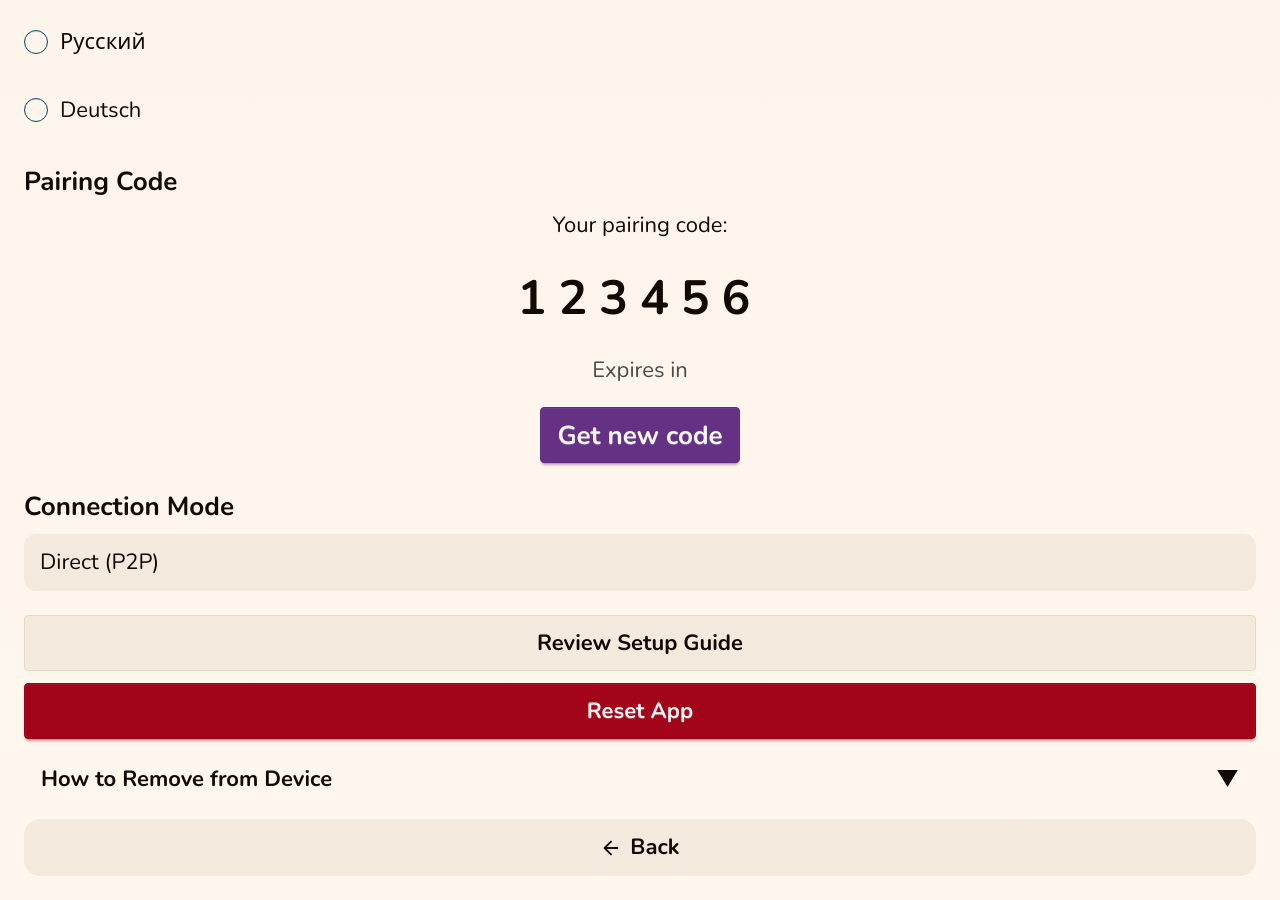
Test case: SettingsScreen › opens confirm dialog when Reset App clicked
(page scrolled)
Step 1. Click the button "Reset App" → click(640, 711), box [24, 683, 1256, 739]
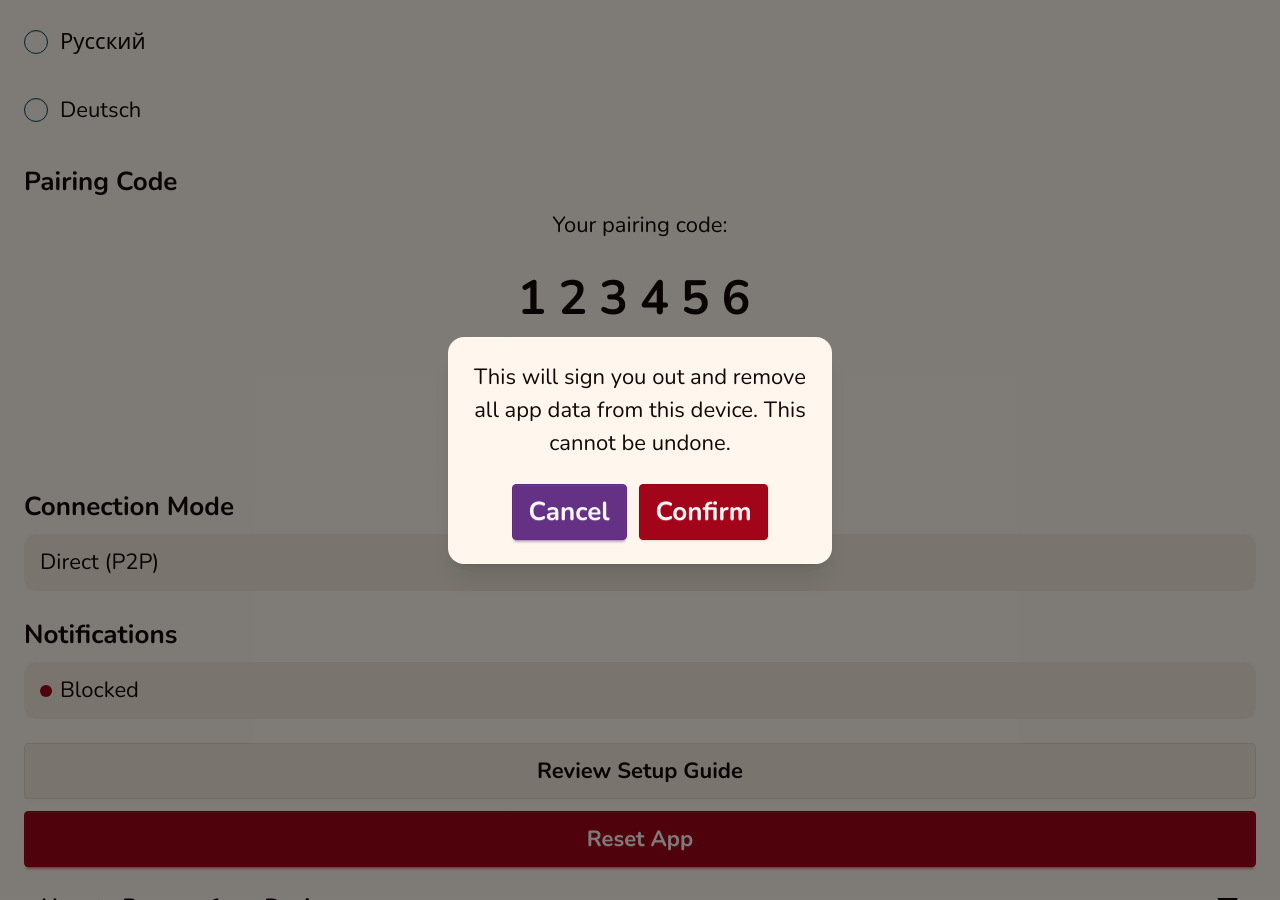
Result: the dialog is shown
Result: the text "sign you out and remove all app data" is shown at [474, 362, 806, 458]
